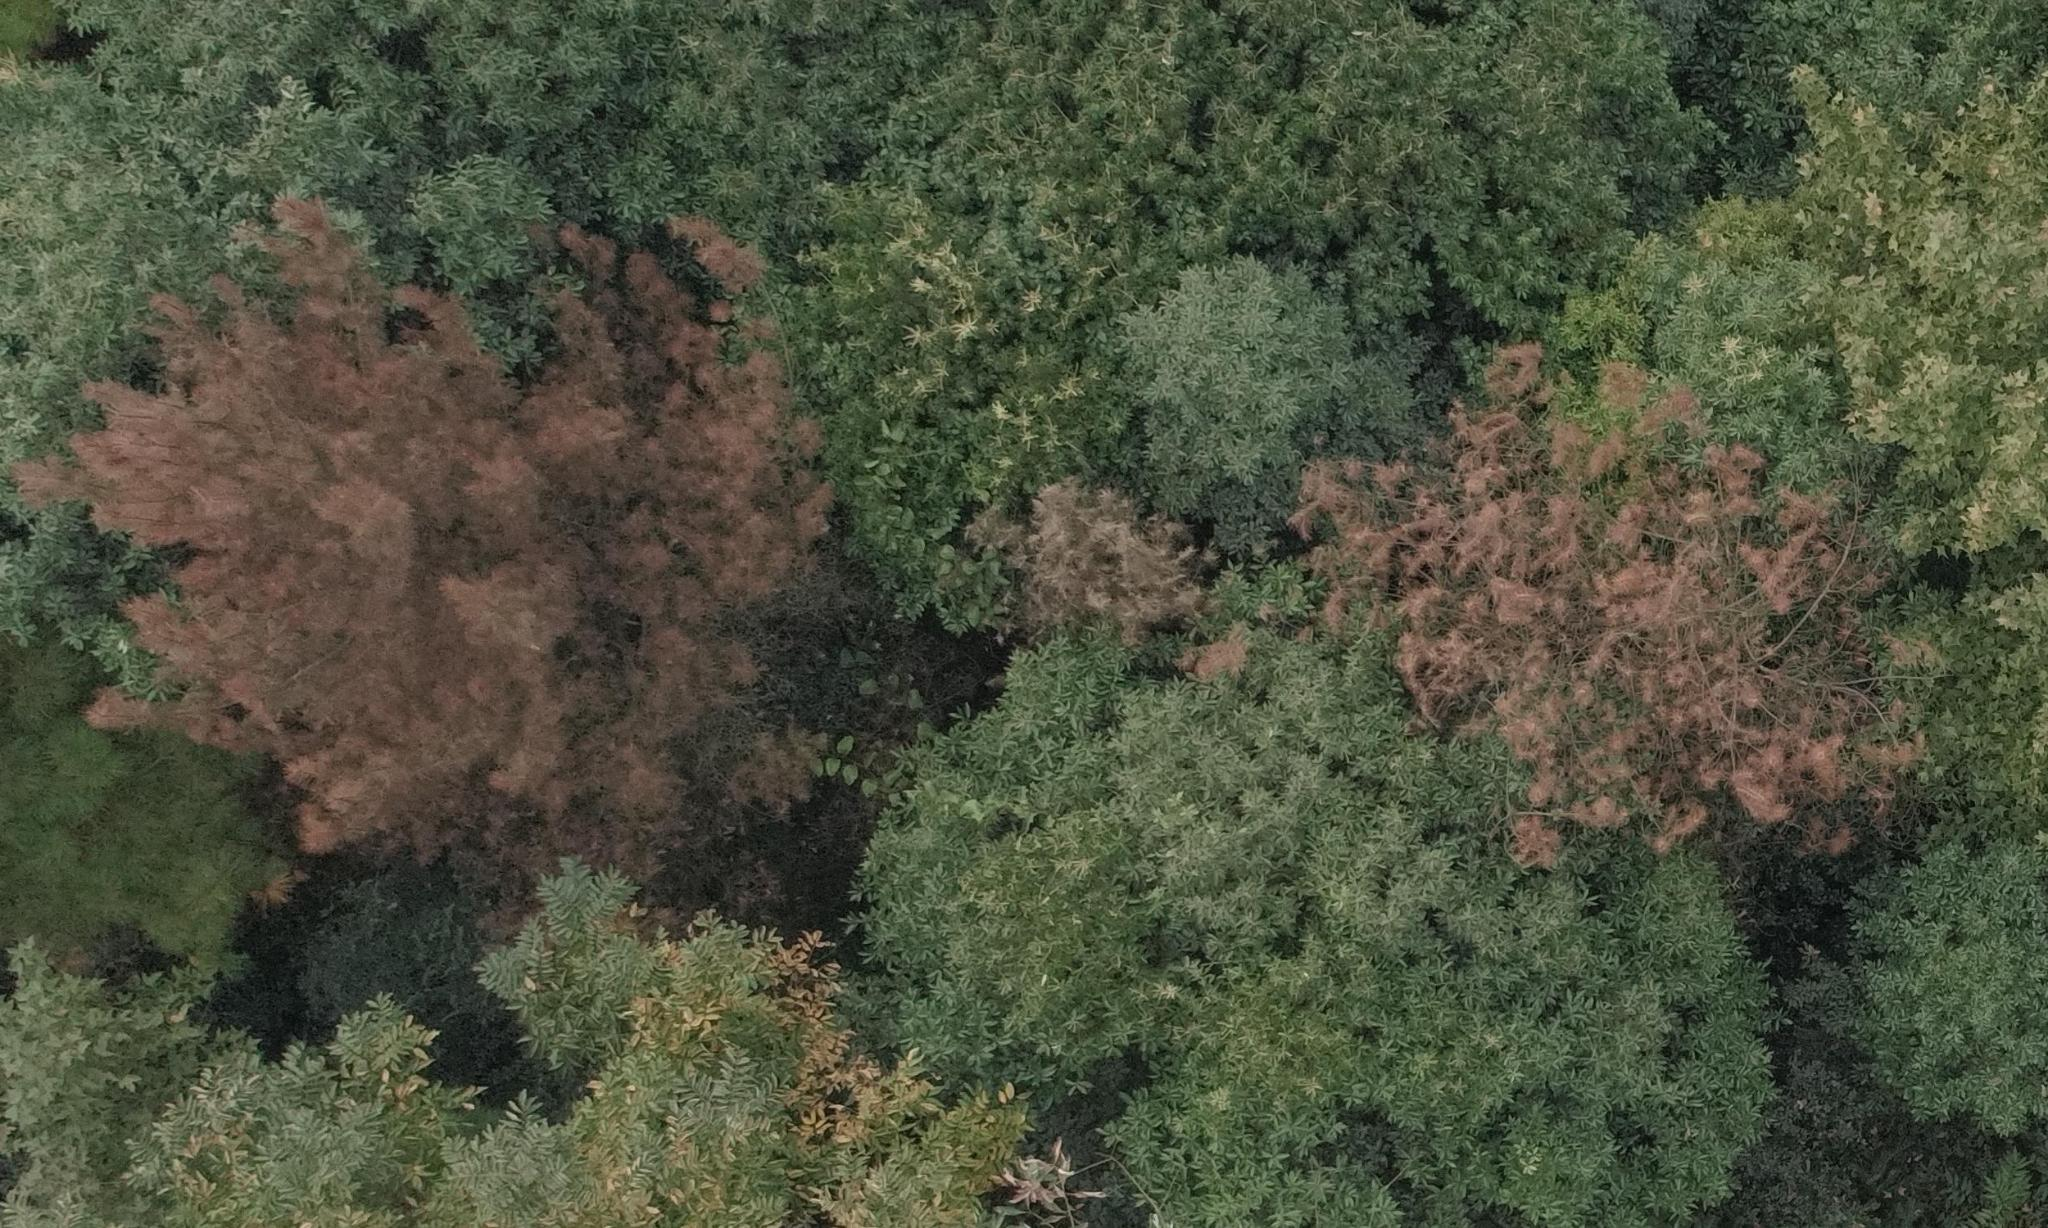heavy: (38, 174, 830, 898), (1289, 336, 1918, 860), (966, 468, 1221, 678)
